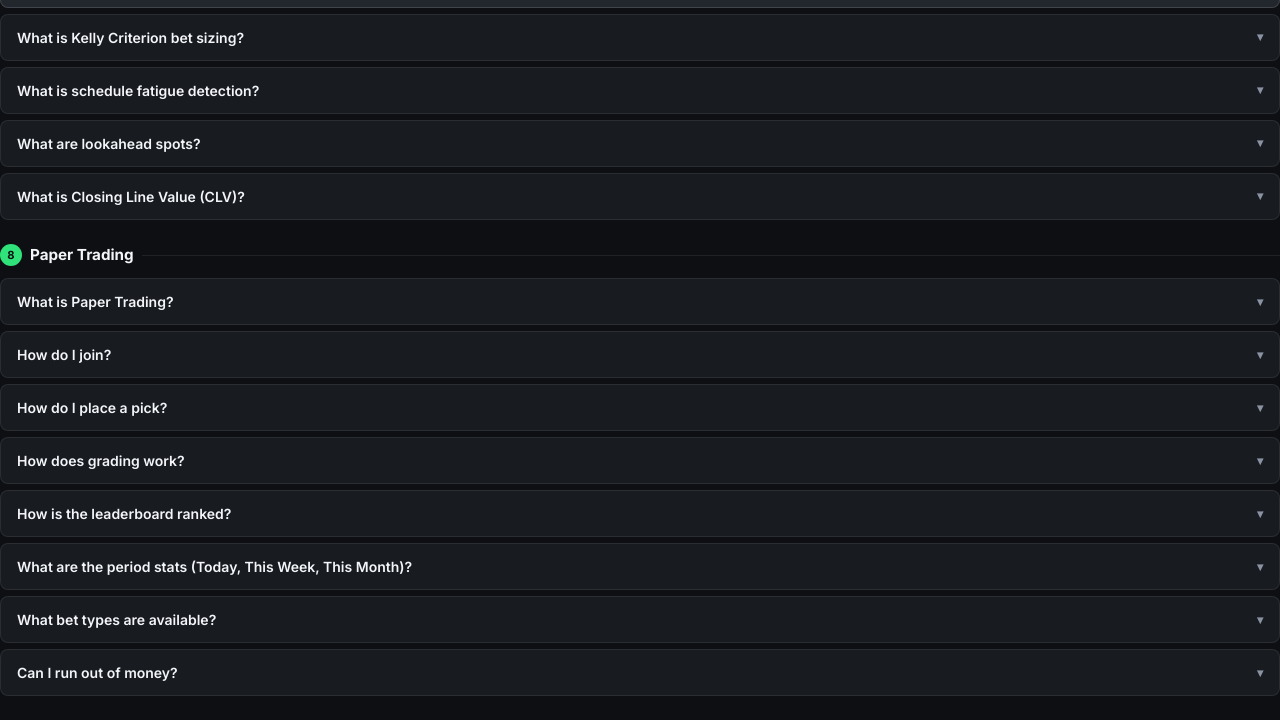
Test case: FAQ › says a moved price is only skipped past when "Accept any odds changes" is ticked
The image size is (1280, 720).
(page scrolled)
Click the text "How do I place a pick?". click: (92, 408)
box: [17,397,167,418]
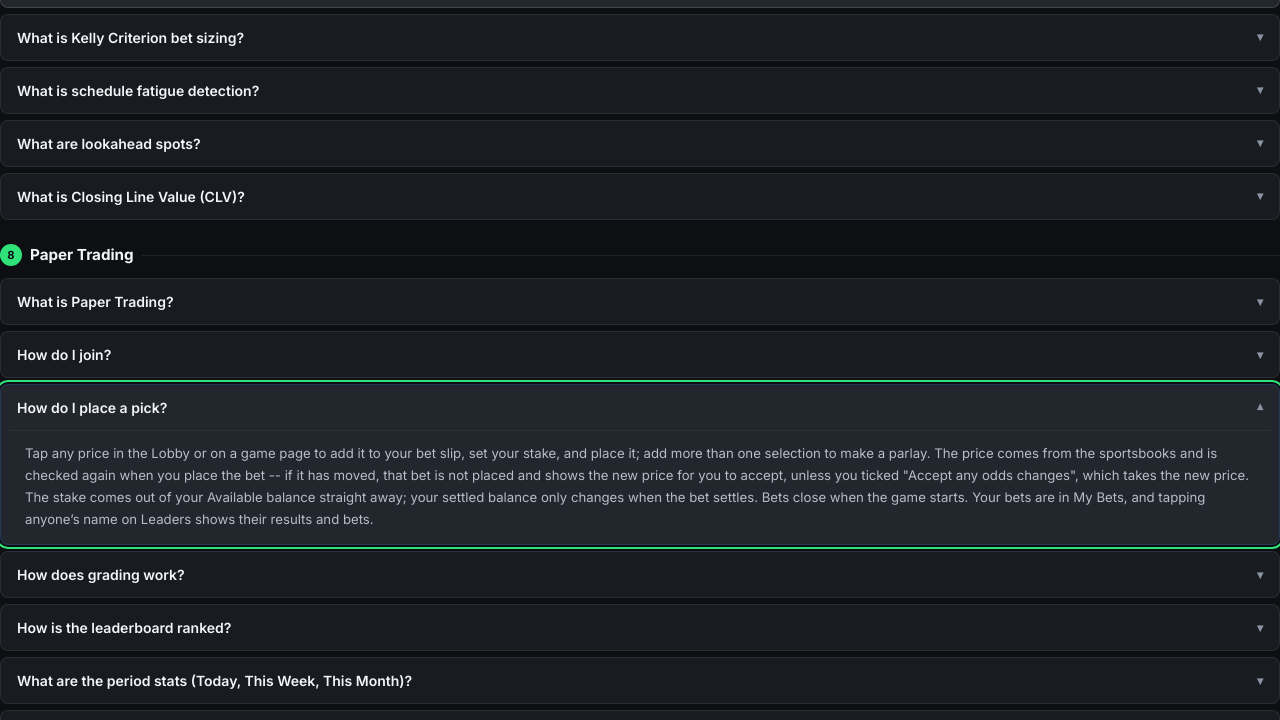
Expected: the text "that bet is not placed and shows the new price for you to accept, unless you ticked \"Accept any odds changes\"" is shown, [25,445,1249,527]
